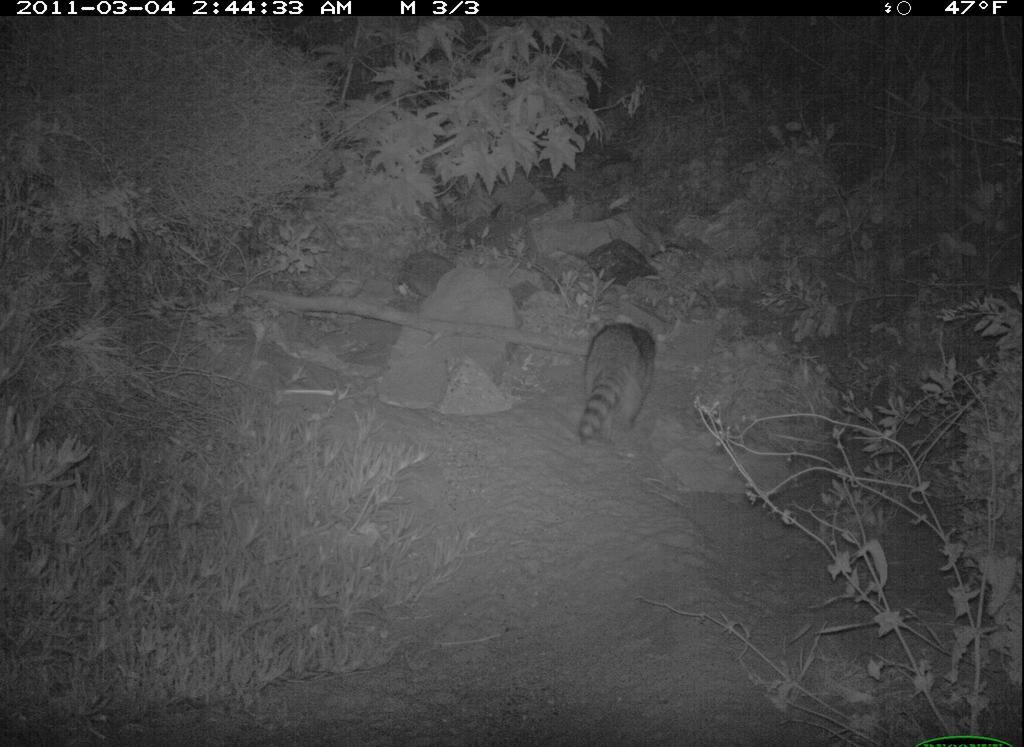raccoon: (573, 308, 662, 452)
